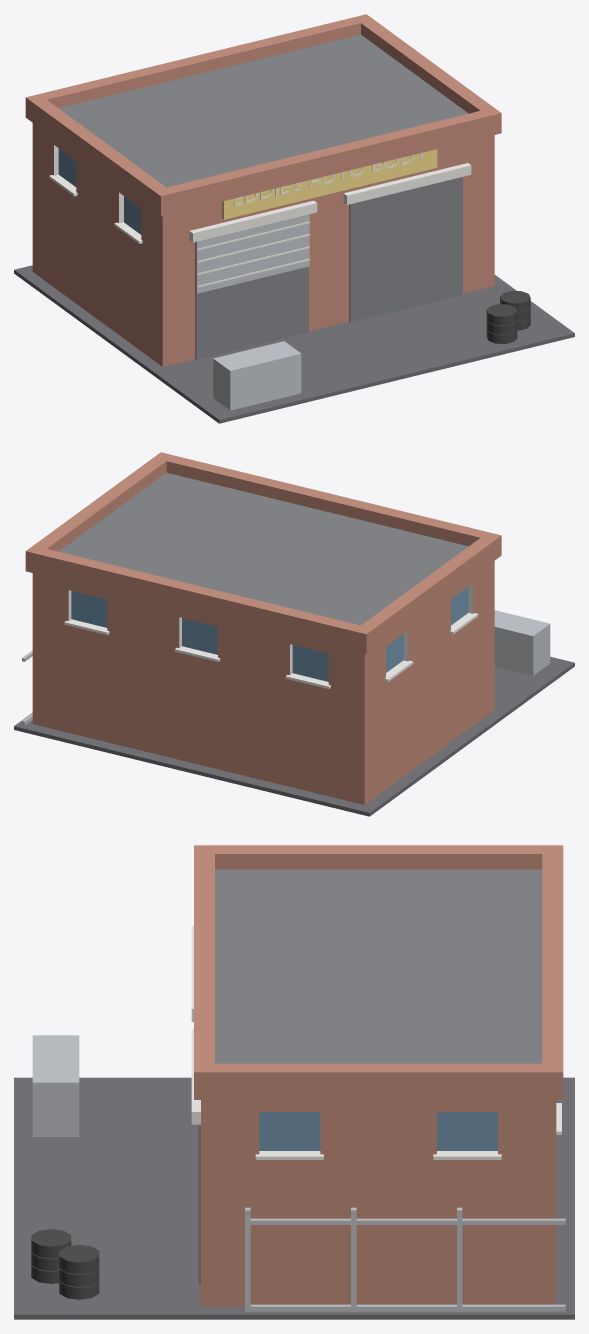
File: chop_shop.glb
3 views of the same model, one above another, from view 1: azimuth 30°, elevation 25°; view 2: azimuth 150°, elevation 25°; view 3: azimuth 270°, elevation 25° (orthographic). The views are drawn at different scales.
Visible parts, largest first — view 1: chop_shop; view 2: chop_shop; view 3: chop_shop.
Part boxes in pixels (box(x1,y1,x2,y2)): chop_shop: box(14, 14, 574, 423); chop_shop: box(14, 452, 574, 816); chop_shop: box(14, 845, 574, 1319).
Size of the model in its own units: 12 by 5.72 by 12.
